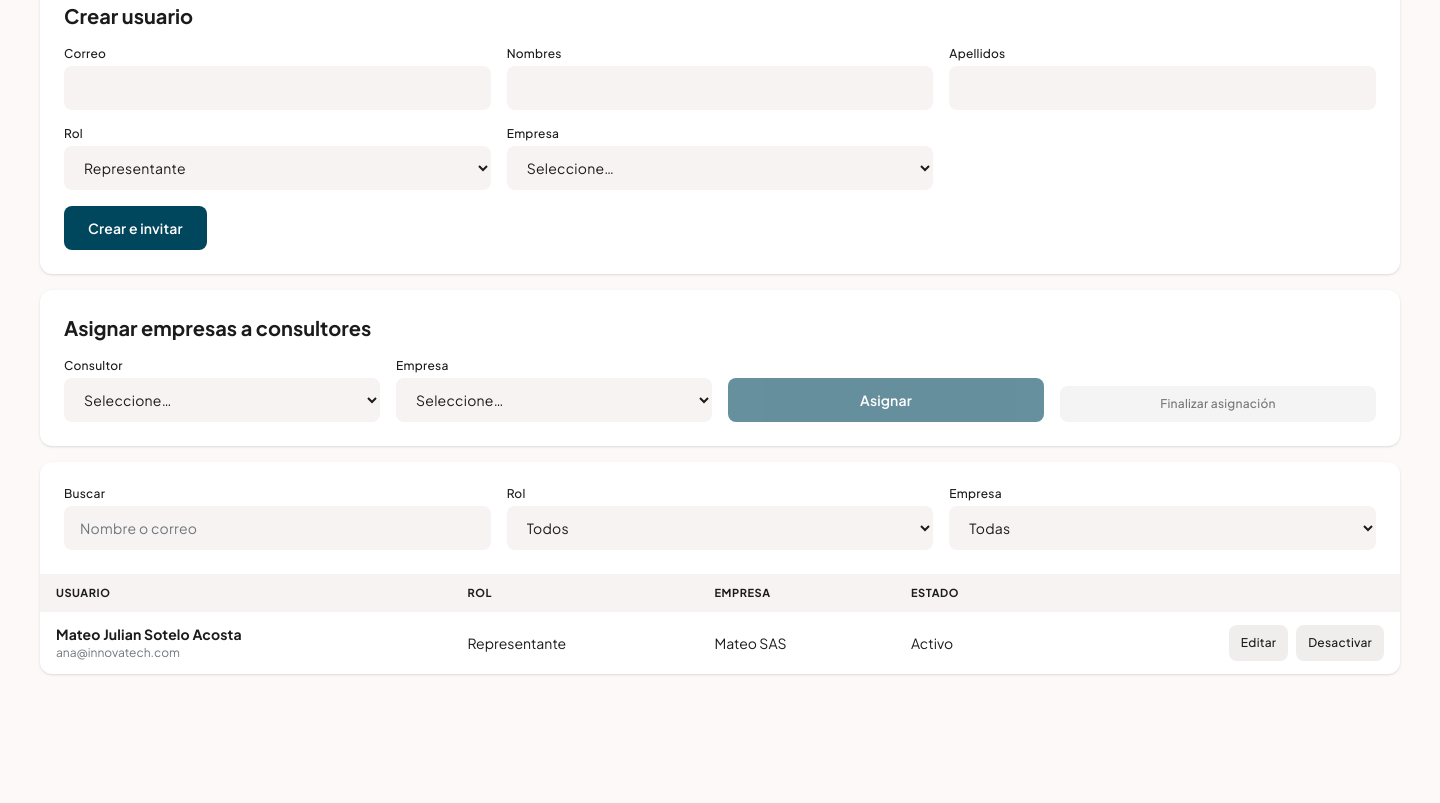
Test case: Edición de usuarios › guarda los cambios y cierra el formulario
(page scrolled)
expect the text "Mateo Julian Sotelo Acosta" is shown: met, box [56,625,242,643]
Click the button "Editar" at (1259, 643), box [1229,625,1288,661]
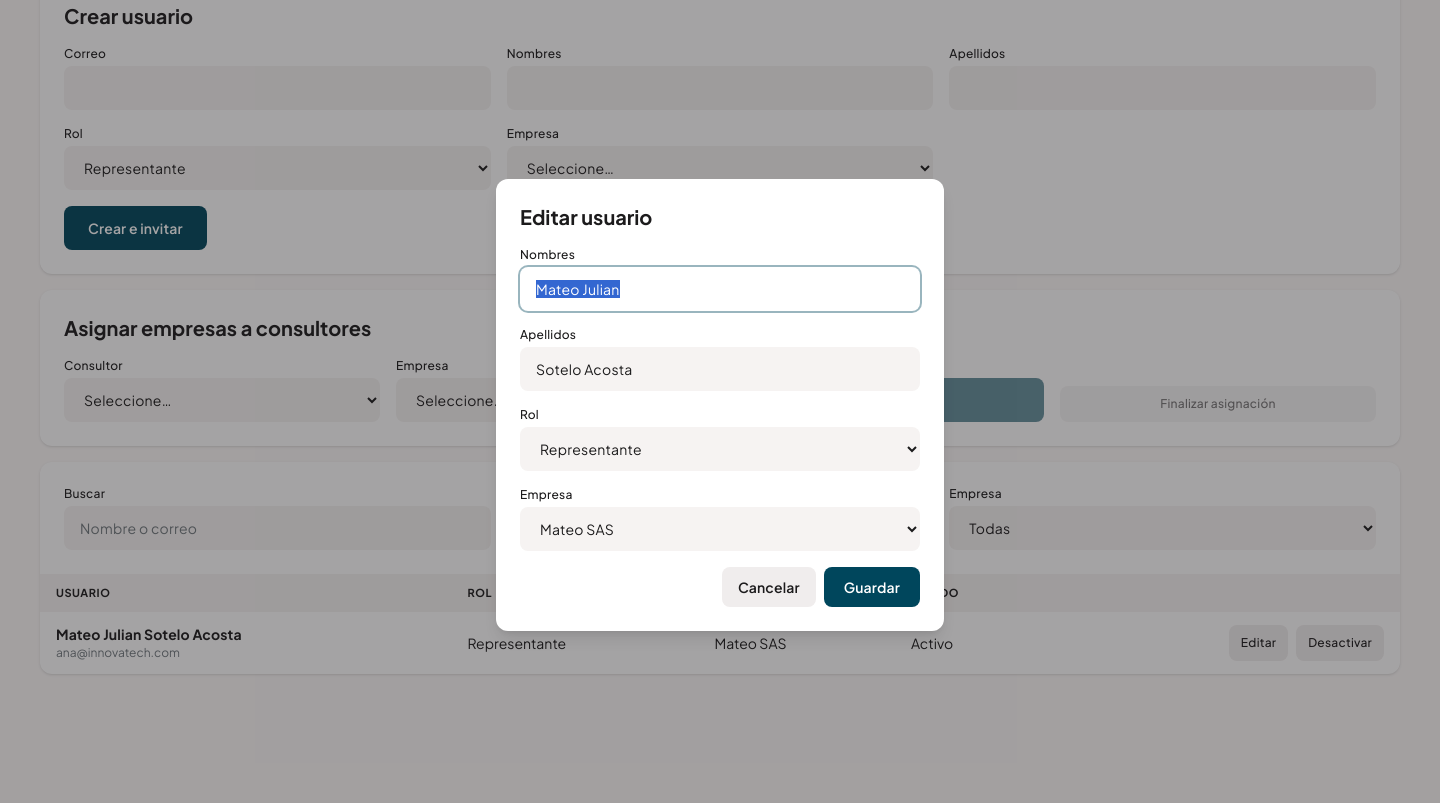
Replace the text in the field labelled "Nombres" with "  Mateo  " at (720, 289), box [520,267,920,311]
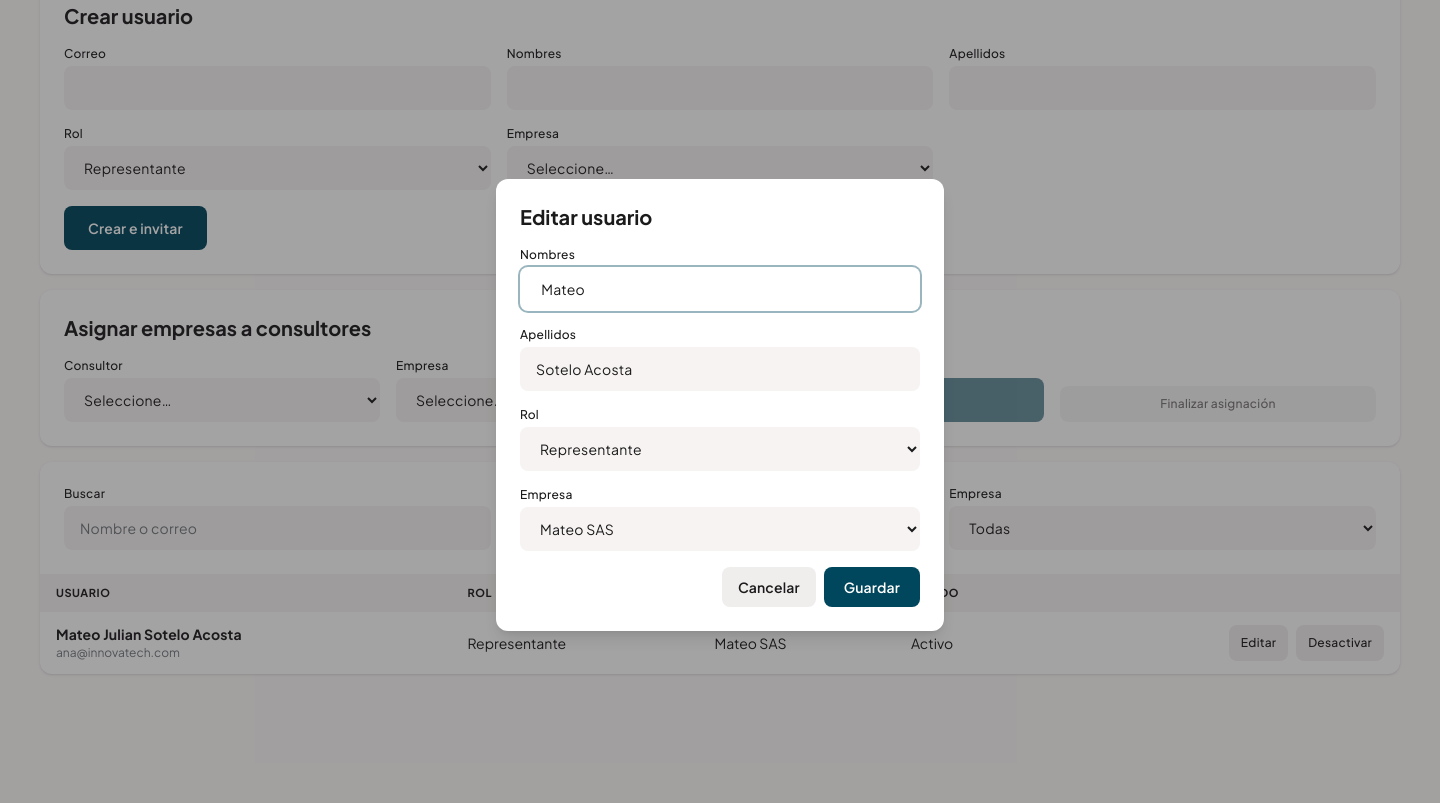
Click the button "Guardar" at (872, 587), box [824,567,920,607]
(page scrolled)
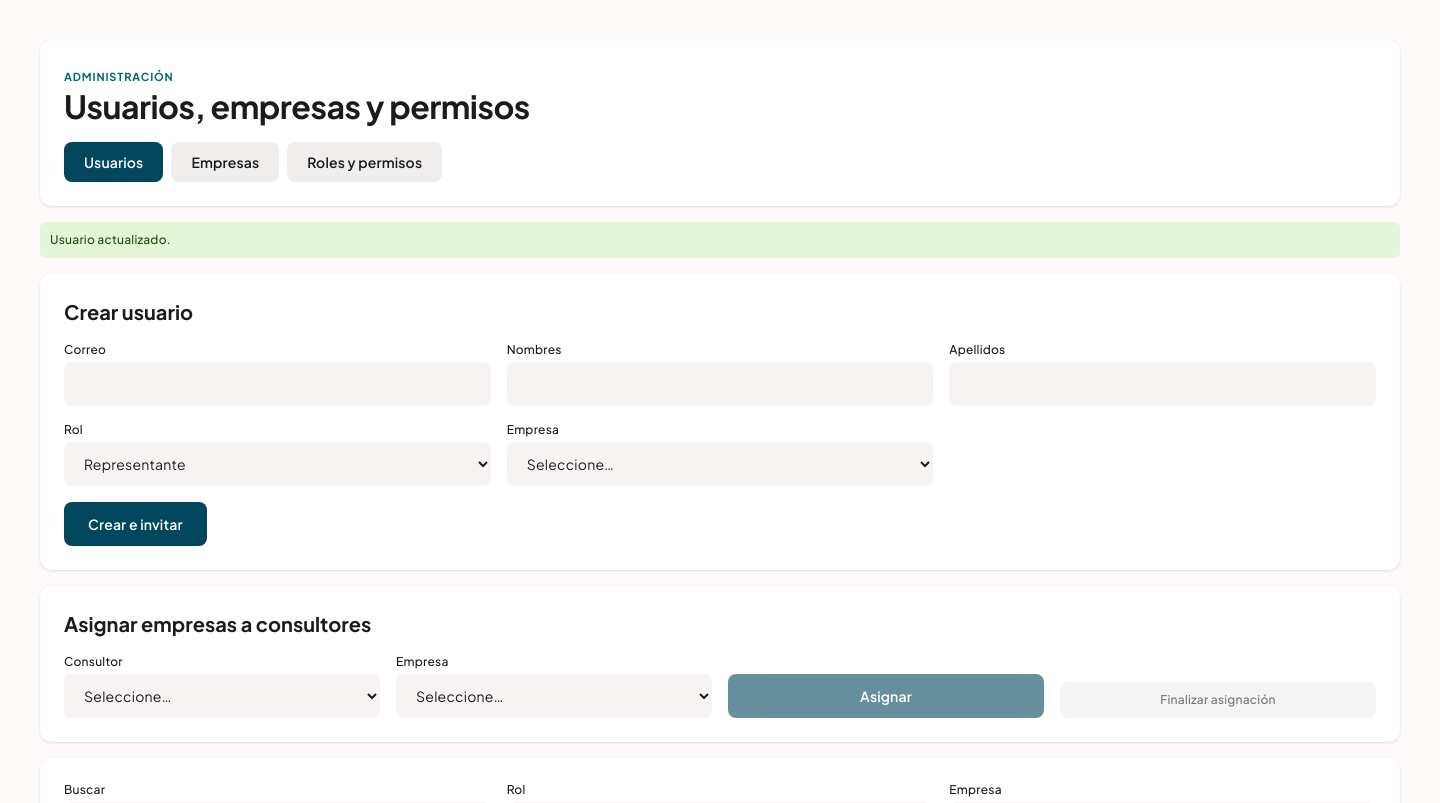
expect the dialog is gone: met
expect the text "Usuario actualizado." is shown: met, box [40,222,1400,258]
